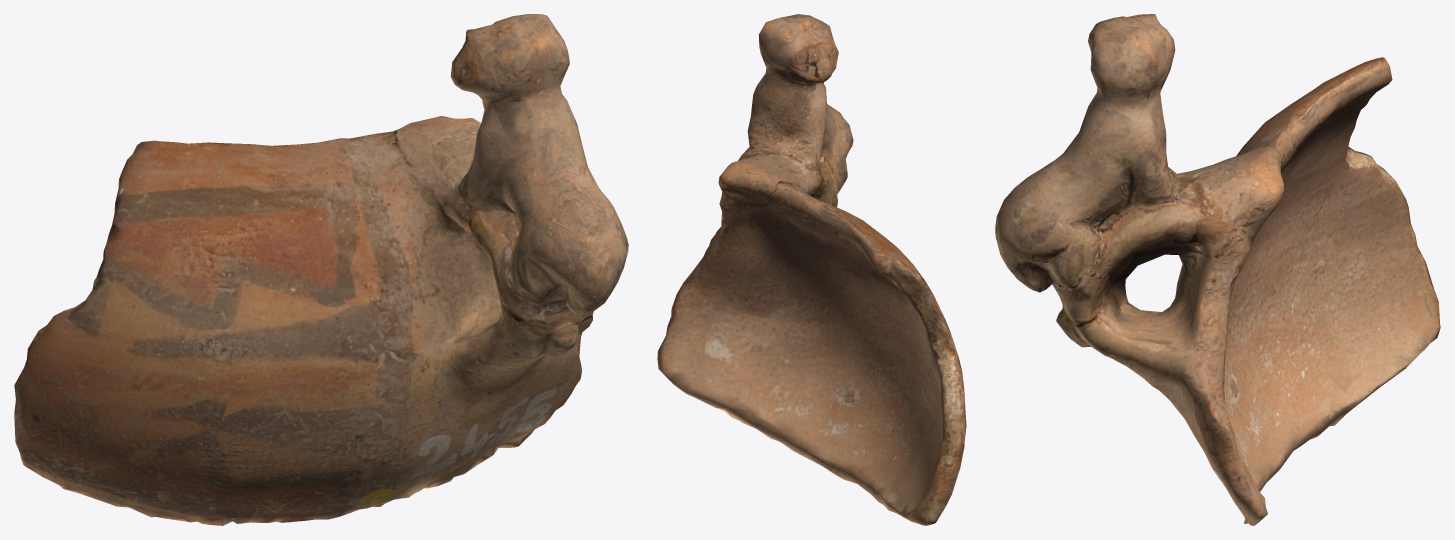
The picture shows the model from 3 angles, left to right: view 1: azimuth 30°, elevation 25°; view 2: azimuth 150°, elevation 25°; view 3: azimuth 270°, elevation 25°; orthographic projection. The views are drawn at different scales.
Parts seen in each view (by area): view 1: MA0622; view 2: MA0622; view 3: MA0622.
Boxes of the visible parts, box(x1,y1,x2,y2) form: MA0622: box(14, 14, 628, 525); MA0622: box(657, 14, 966, 525); MA0622: box(995, 14, 1440, 525).
Bounding box in the file's own units: 0.5334 × 0.5501 × 0.4324.
Materials: 1 (1 with a texture image).
